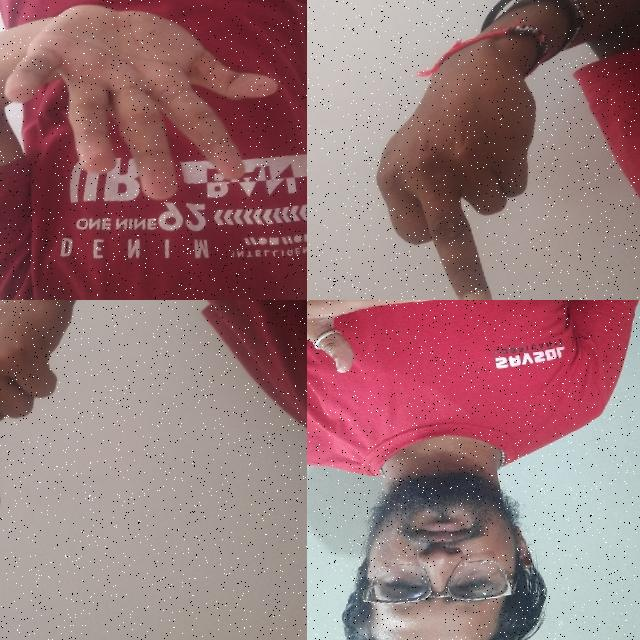Five Fathers: (307, 300, 599, 396)
Middle Finger: (360, 40, 568, 300), (0, 300, 112, 529)
Moutza: (0, 0, 291, 219)
